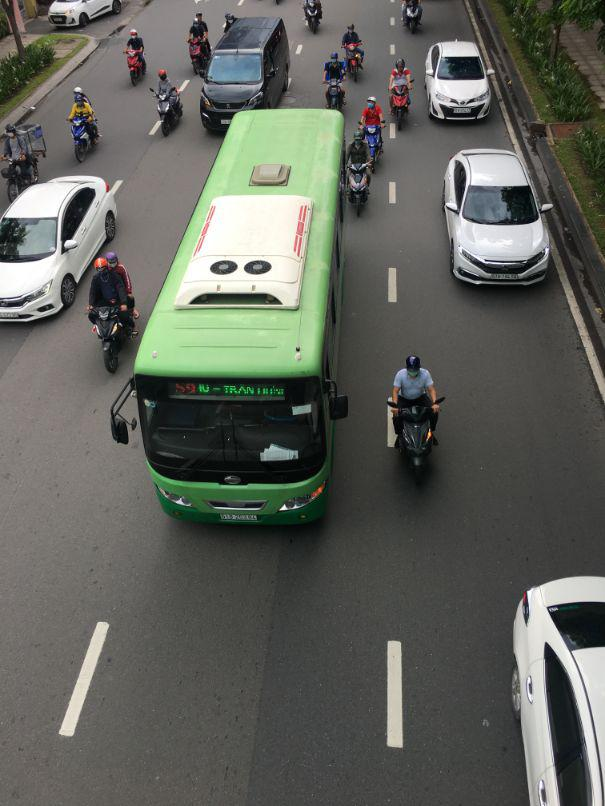bus: (123, 94, 352, 536)
car: (511, 573, 604, 805), (0, 176, 125, 325), (443, 144, 552, 288), (201, 14, 295, 136), (425, 41, 494, 123), (47, 0, 119, 29)
motorbike: (390, 386, 442, 480), (90, 301, 136, 372), (149, 80, 185, 138), (2, 152, 39, 202), (347, 160, 372, 212), (188, 26, 213, 78), (70, 118, 98, 164), (324, 62, 348, 113), (125, 41, 147, 86), (304, 1, 323, 34)
